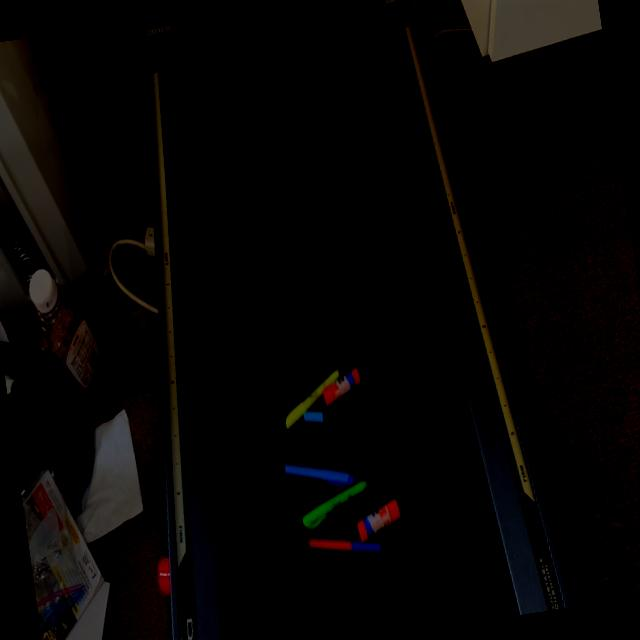Trash: (276, 429, 414, 568), (283, 359, 380, 442)
